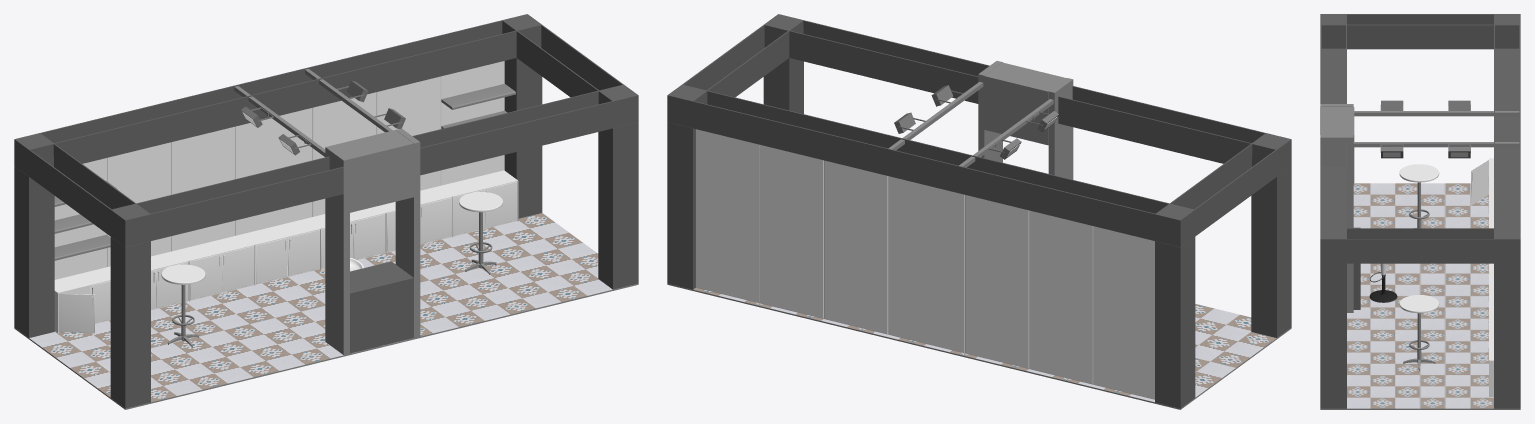
The model's file is Fbx_standart_material.fbx.
3 views of the same model, side by side, from view 1: azimuth 30°, elevation 25°; view 2: azimuth 150°, elevation 25°; view 3: azimuth 270°, elevation 25° (orthographic). The views are drawn at different scales.
Visible parts, largest first — view 1: Box861, Box885, Box869, Box880, Box862, Box875, Box866, Box873, ChamferBox011, Box886, ChamferBox005, Box872 (+37 smaller); view 2: Box885, ChamferBox011, ChamferBox005, ChamferBox004, ChamferBox007, ChamferBox008, ChamferBox010, ChamferBox003, Box869, Box880, Box866, Box862 (+14 smaller); view 3: Box861, Box868, Box879, Box885, Box875, Box877, Box874, Box883, Box880, Box869, Box886, Box876 (+16 smaller).
Boxes of the visible parts, bbox=[...] form: Box861: bbox=[29, 213, 612, 402]; Box885: bbox=[40, 20, 516, 163]; Box869: bbox=[136, 156, 343, 240]; Box880: bbox=[412, 91, 612, 175]; Box862: bbox=[110, 237, 150, 408]; Box875: bbox=[598, 122, 638, 289]; Box866: bbox=[14, 166, 54, 337]; Box873: bbox=[350, 261, 413, 353]; ChamferBox011: bbox=[235, 108, 312, 235]; Box886: bbox=[332, 130, 413, 212]; ChamferBox005: bbox=[171, 126, 235, 251]; Box872: bbox=[325, 145, 349, 355]; Box885: bbox=[693, 91, 1169, 240]; ChamferBox011: bbox=[888, 176, 964, 353]; ChamferBox005: bbox=[965, 195, 1029, 368]; ChamferBox004: bbox=[1029, 210, 1093, 384]; ChamferBox007: bbox=[824, 160, 888, 334]; ChamferBox008: bbox=[759, 145, 823, 318]; ChamferBox010: bbox=[695, 129, 759, 303]; ChamferBox003: bbox=[1093, 226, 1154, 399]; Box869: bbox=[1058, 86, 1265, 163]; Box880: bbox=[789, 20, 989, 103]; Box866: bbox=[1155, 237, 1195, 408]; Box862: bbox=[1251, 166, 1291, 337]; Box861: bbox=[1347, 183, 1493, 408]; Box868: bbox=[1347, 14, 1493, 49]; Box879: bbox=[1347, 228, 1493, 263]; Box885: bbox=[1494, 25, 1520, 228]; Box875: bbox=[1320, 263, 1346, 408]; Box877: bbox=[1494, 263, 1520, 408]; Box874: bbox=[1353, 111, 1519, 147]; Box883: bbox=[1320, 135, 1353, 312]; Box880: bbox=[1320, 143, 1346, 228]; Box869: bbox=[1320, 25, 1346, 103]; Box886: bbox=[1321, 107, 1354, 182]; Box876: bbox=[1320, 228, 1346, 263].
Size of the model in its own units: 800 by 292 by 300.
Materials: 18 (1 with a texture image).
